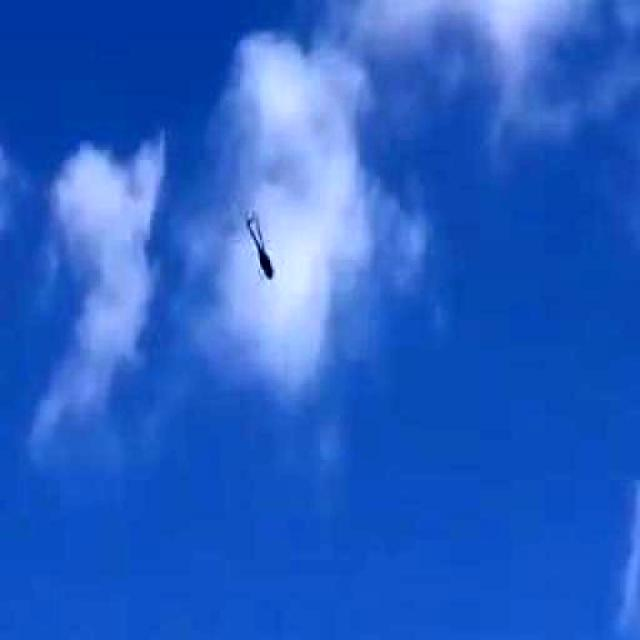drone: (208, 190, 300, 304)
